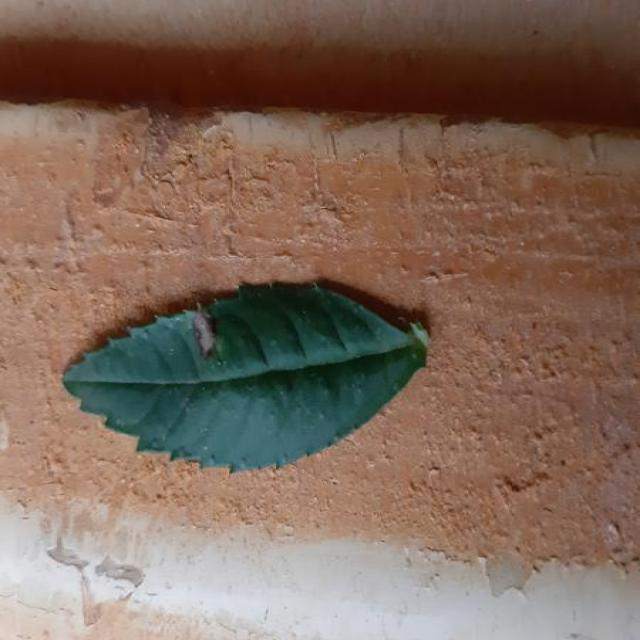marigold: (63, 285, 428, 471)
